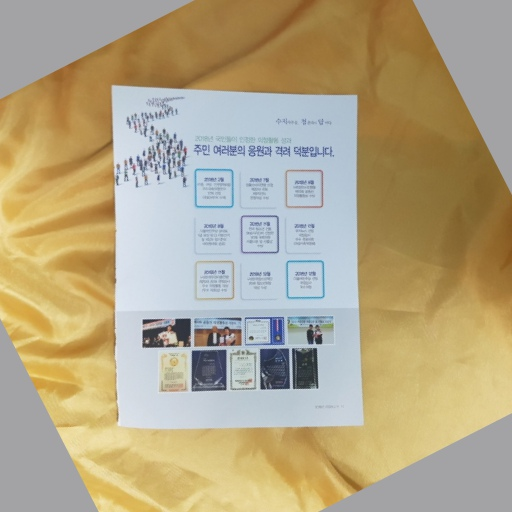Paper_2: (103, 81, 375, 436)
